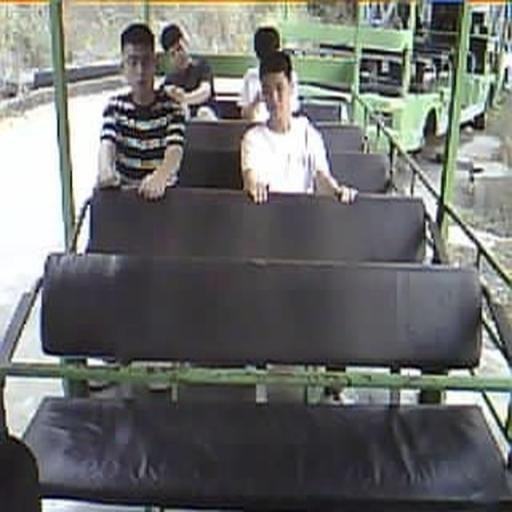persona: (240, 49, 358, 206), (96, 22, 186, 201), (240, 25, 305, 121), (157, 22, 219, 121)
